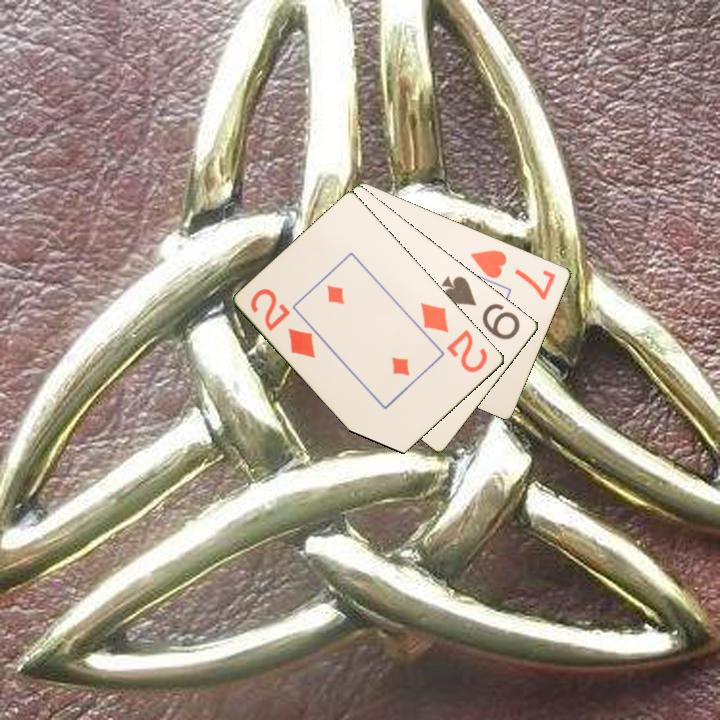2d: (417, 299, 491, 376), (247, 285, 319, 361)
7h: (467, 246, 559, 303)
9s: (438, 272, 524, 343)
